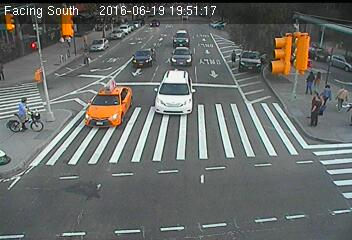neg: (3, 90, 41, 141), (108, 109, 127, 134), (139, 42, 157, 67), (108, 27, 118, 41)
pos: (332, 82, 351, 112), (227, 46, 243, 67)
